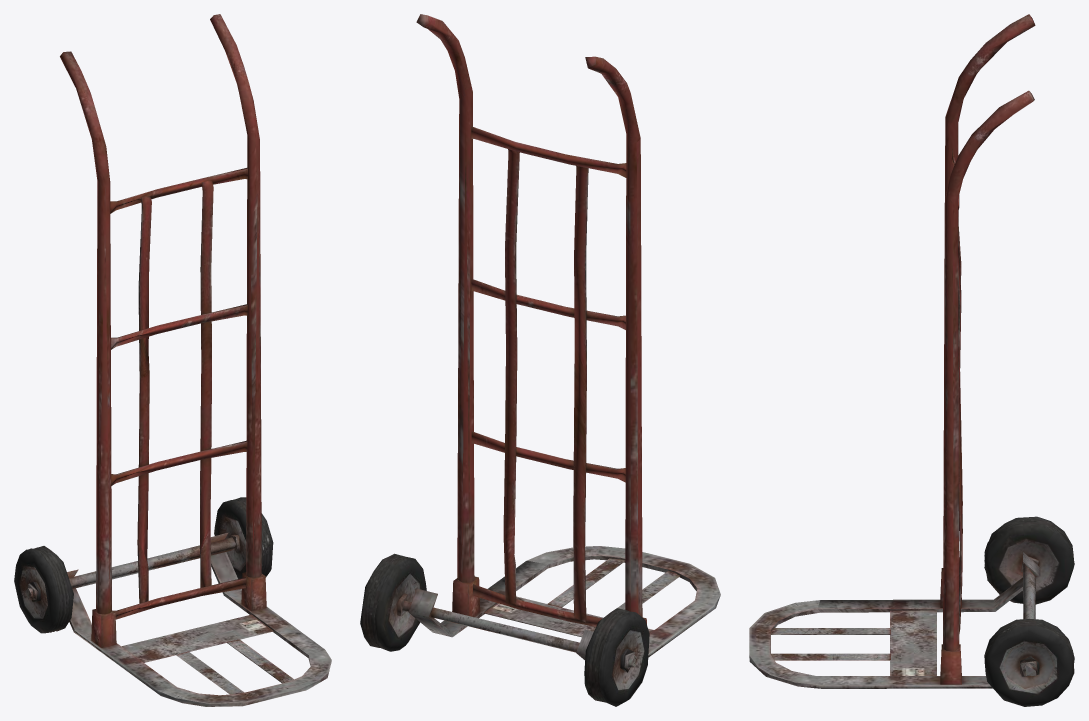
File: hand_truck.glb
The picture shows the model from 3 angles, left to right: view 1: azimuth 30°, elevation 25°; view 2: azimuth 150°, elevation 25°; view 3: azimuth 270°, elevation 25°; orthographic projection. The views are drawn at different scales.
Visible parts, largest first — view 1: hand_truck; view 2: hand_truck; view 3: hand_truck.
Boxes of the visible parts, x1=… form: hand_truck: x1=14, y1=14, x2=331, y2=706; hand_truck: x1=360, y1=14, x2=720, y2=706; hand_truck: x1=749, y1=14, x2=1074, y2=706.
Bounding box in the file's own units: 0.5933 × 1.4 × 0.692.
1 material, 1 textured.
